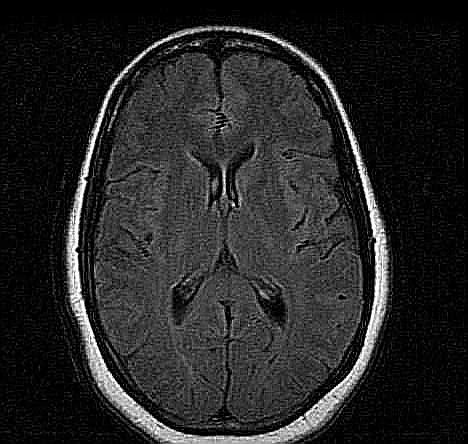Normal_Brain: (4, 3, 468, 444)
